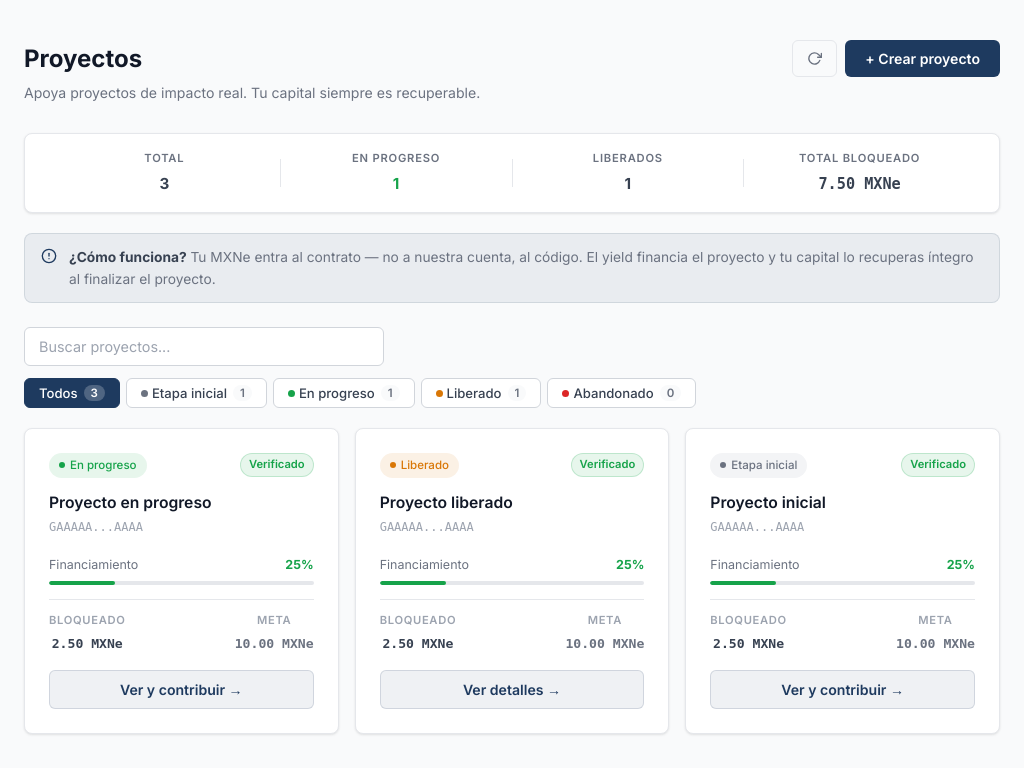
it: ListaProyectos › filtra los proyectos por estado
The image size is (1024, 768).
Expected: the heading "Proyecto en progreso" is shown, [49,493,212,512]
Expected: the heading "Proyecto liberado" is shown, [380,493,513,512]
What coordinates should you click on to do the following:
click the button "Liberado 1"
I would click on:
 (481, 393)
Its box is [420,378,541,408].
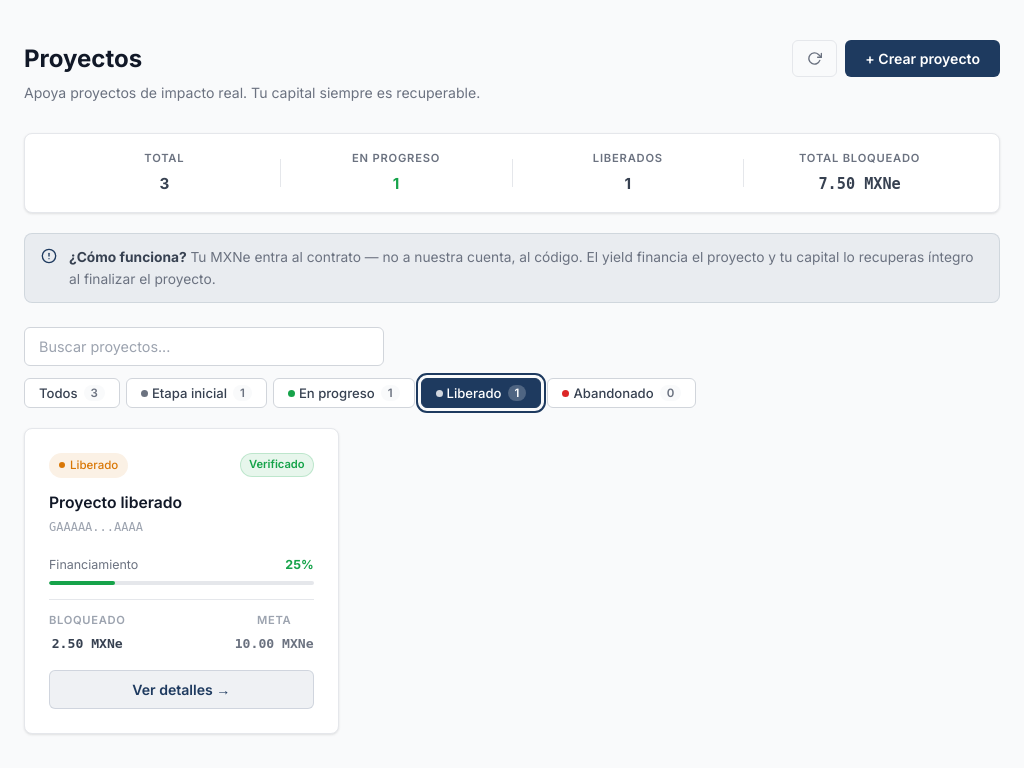
Expected: the heading "Proyecto liberado" is shown, [49,493,182,512]
Expected: the heading "Proyecto en progreso" is gone
Expected: the heading "Proyecto inicial" is gone
